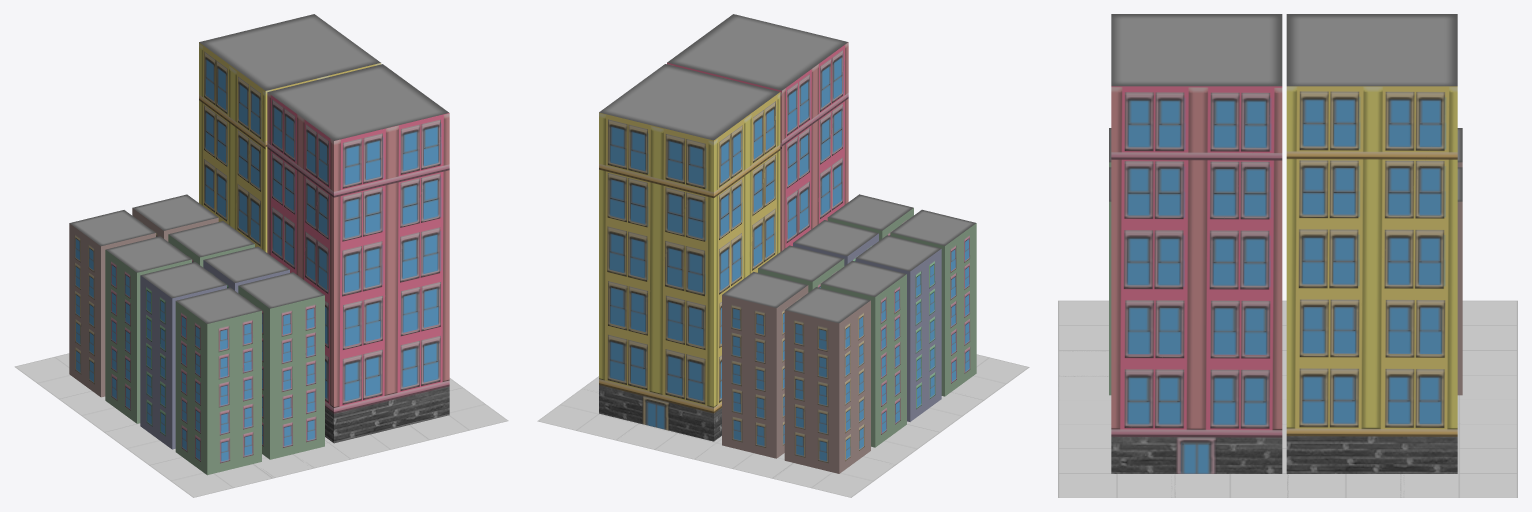
Rendered from erea_2.fbx.
The picture shows the model from 3 angles, left to right: view 1: azimuth 30°, elevation 25°; view 2: azimuth 150°, elevation 25°; view 3: azimuth 270°, elevation 25°; orthographic projection. The views are drawn at different scales.
Parts seen in each view (by area): view 1: pCube237, pCube238, pCube242, pCube233, pCube239, pCube241, pCube240, pPlane676, pPlane687, pCube236, pCube235, pCube234 (+6 smaller); view 2: pCube238, pCube237, pCube239, pCube236, pCube240, pCube242, pCube241, pPlane673, pPlane685, pCube235, pCube233, pCube234 (+5 smaller); view 3: pCube237, pCube238, pPlane685, pPlane687, pPlane681, pPlane688, pPlane673, pPlane677, pPlane686, pPlane676, pPlane683, pPlane689 (+3 smaller).
Boxes of the visible parts, left/top/right/bottom form: pCube237: left=267, top=64, right=449, bottom=443; pCube238: left=199, top=14, right=381, bottom=252; pCube242: left=175, top=287, right=261, bottom=475; pCube233: left=238, top=272, right=324, bottom=459; pCube239: left=69, top=210, right=155, bottom=397; pCube241: left=140, top=262, right=226, bottom=449; pCube240: left=105, top=236, right=191, bottom=423; pPlane676: left=149, top=457, right=272, bottom=497; pPlane687: left=409, top=387, right=508, bottom=439; pCube236: left=132, top=194, right=218, bottom=241; pCube235: left=168, top=221, right=254, bottom=267; pCube234: left=203, top=246, right=289, bottom=292; pCube238: left=599, top=64, right=780, bottom=441; pCube237: left=667, top=14, right=848, bottom=251; pCube239: left=784, top=287, right=870, bottom=473; pCube236: left=722, top=272, right=808, bottom=458; pCube240: left=820, top=260, right=906, bottom=447; pCube242: left=890, top=209, right=976, bottom=396; pCube241: left=855, top=235, right=941, bottom=421; pPlane673: left=773, top=456, right=895, bottom=497; pPlane685: left=537, top=388, right=638, bottom=440; pCube235: left=758, top=245, right=844, bottom=292; pCube233: left=827, top=194, right=913, bottom=240; pCube234: left=793, top=220, right=878, bottom=265; pCube237: left=1111, top=14, right=1282, bottom=473; pCube238: left=1286, top=14, right=1457, bottom=473; pPlane685: left=1400, top=448, right=1517, bottom=497; pPlane687: left=1058, top=448, right=1175, bottom=497; pPlane681: left=1457, top=399, right=1517, bottom=448; pPlane688: left=1171, top=448, right=1288, bottom=497; pPlane673: left=1462, top=300, right=1517, bottom=350; pPlane677: left=1457, top=350, right=1517, bottom=399; pPlane686: left=1287, top=474, right=1404, bottom=497; pPlane676: left=1058, top=300, right=1108, bottom=350; pPlane683: left=1058, top=401, right=1111, bottom=448; pPlane689: left=1058, top=351, right=1111, bottom=400.
Bounding box in the file's own units: 54.61 × 50 × 53.77.
